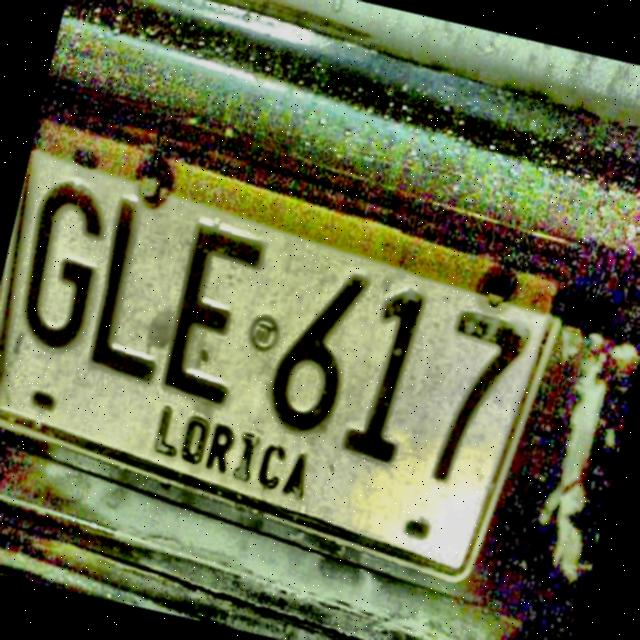plate: (0, 120, 565, 576)
